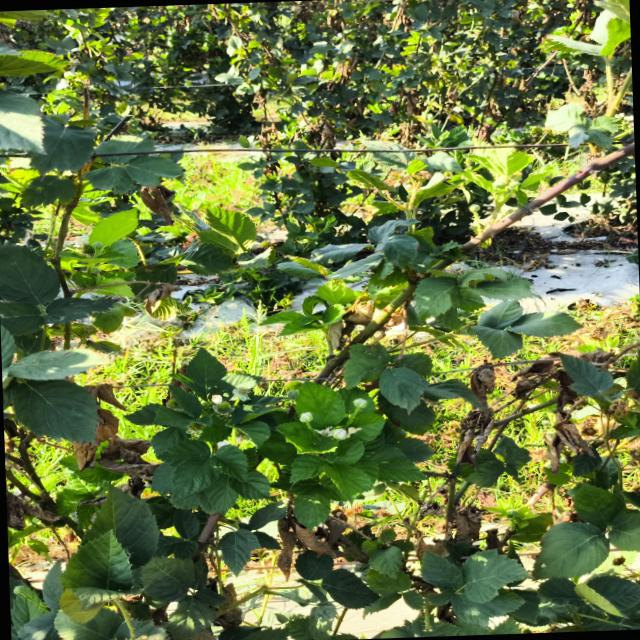boton: (317, 427, 361, 439), (352, 397, 367, 409), (299, 411, 312, 423)
